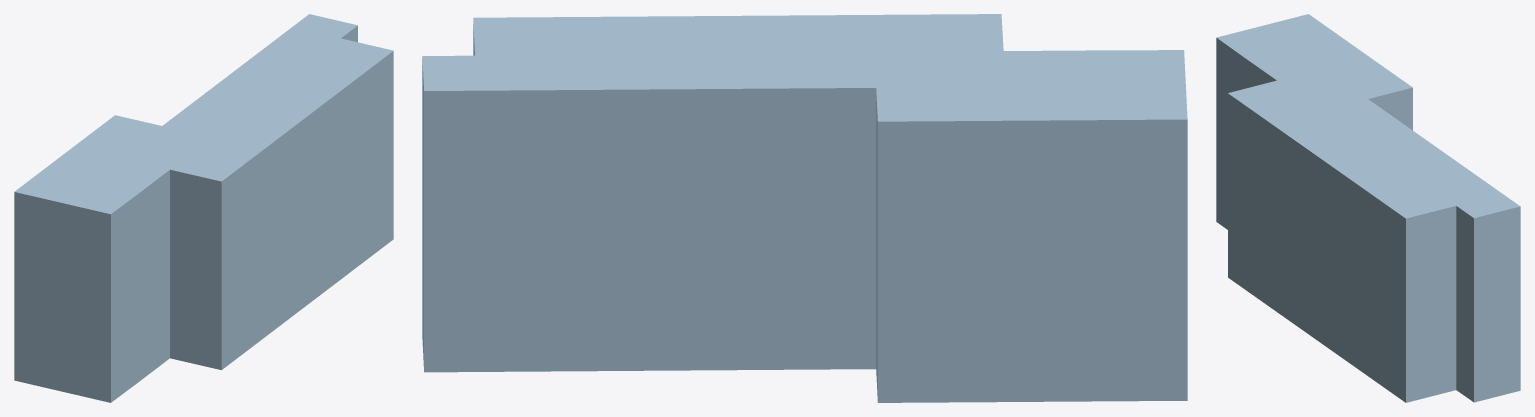
Rendered from osm_way_225250618.glb.
3 views of the same model, side by side, from view 1: azimuth 30°, elevation 25°; view 2: azimuth 150°, elevation 25°; view 3: azimuth 270°, elevation 25° (orthographic). The views are drawn at different scales.
Parts seen in each view (by area): view 1: osm_way_225250618; view 2: osm_way_225250618; view 3: osm_way_225250618.
Part boxes in pixels (bbox=[...]): osm_way_225250618: bbox=[14, 14, 393, 402]; osm_way_225250618: bbox=[422, 14, 1187, 402]; osm_way_225250618: bbox=[1216, 14, 1520, 402].
Size of the model in its own units: 45.72 by 19.2 by 28.71.
